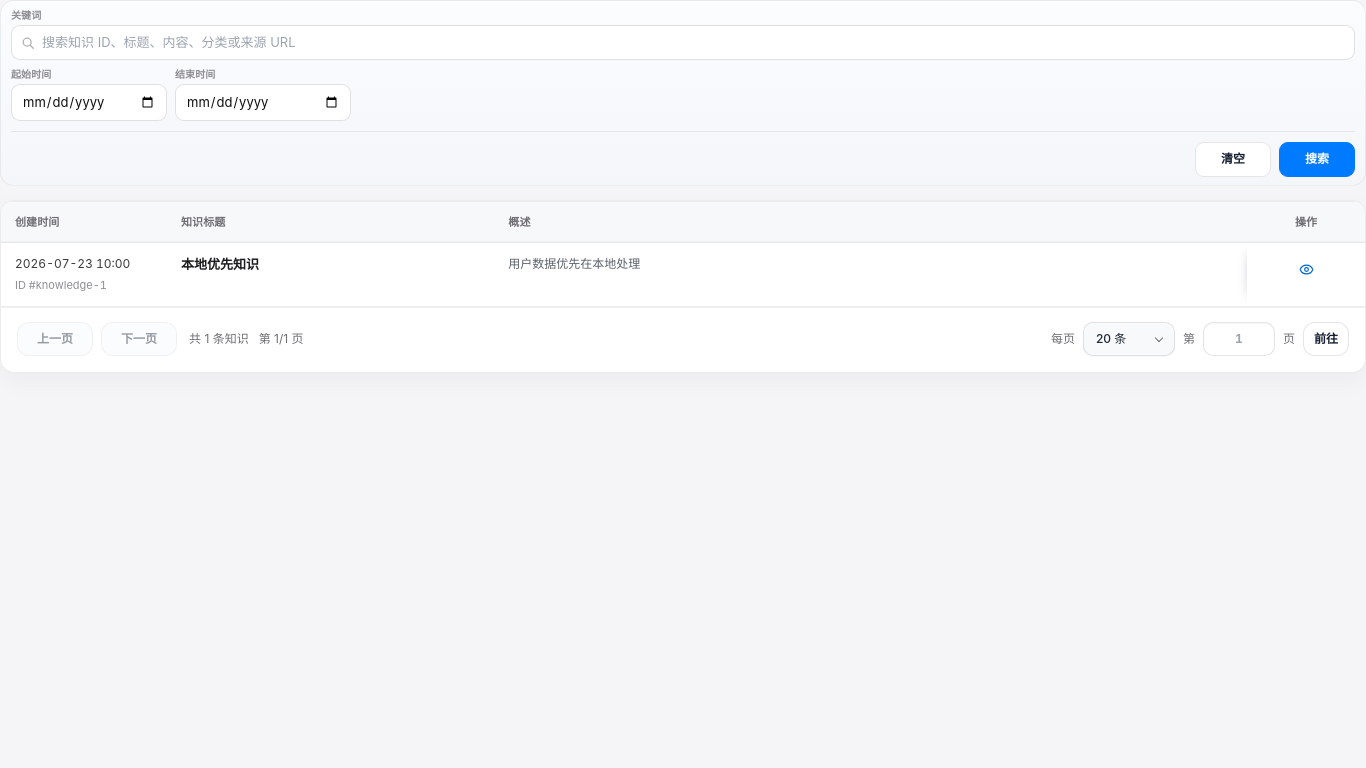
Test case: Bake 详情展示优化 › 知识列表和详情不展示内部提炼字段
Click the button named "查看知识「本地优先知识」详情" at (1306, 269), box [1292, 255, 1320, 283]
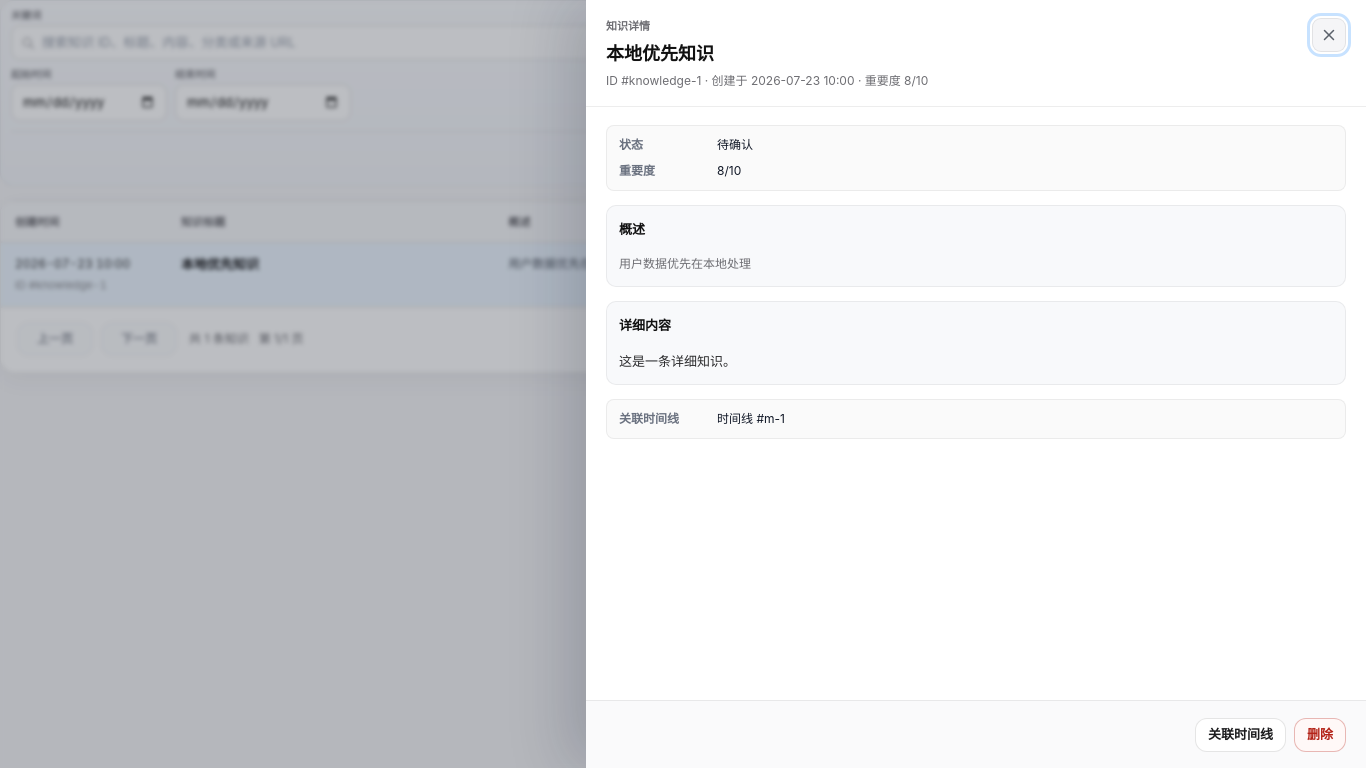
Expected: the text "本地优先知识" is shown, [181, 256, 259, 272]
Result: the button "删除" is shown at [1294, 718, 1346, 752]
